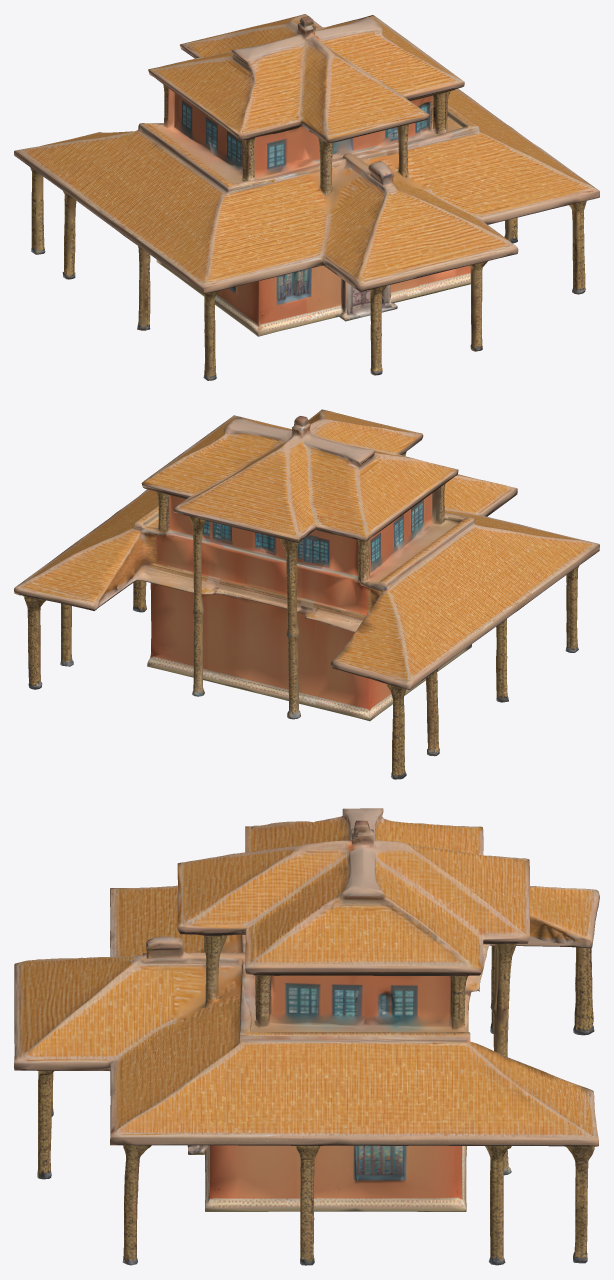
Rendered from indian_village_house_famous_3d_model_37_4zjm.glb.
3 renders of one model, top to bottom at view 1: azimuth 30°, elevation 25°; view 2: azimuth 150°, elevation 25°; view 3: azimuth 270°, elevation 25°, orthographic. The views are drawn at different scales.
Visible parts, largest first — view 1: material; view 2: material; view 3: material.
Part boxes in pixels (bbox=[...]): material: bbox=[14, 14, 599, 380]; material: bbox=[14, 409, 599, 779]; material: bbox=[14, 808, 599, 1265].
Bounding box in the file's own units: 0.9999 × 0.6083 × 0.9936.
1 material, 1 textured.
